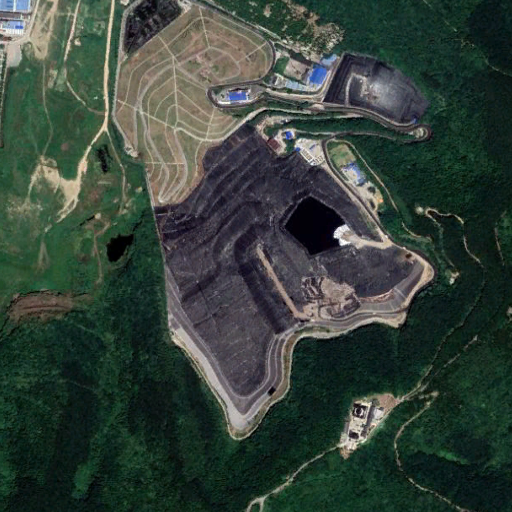lf: (152, 123, 431, 430), (320, 47, 427, 128)
